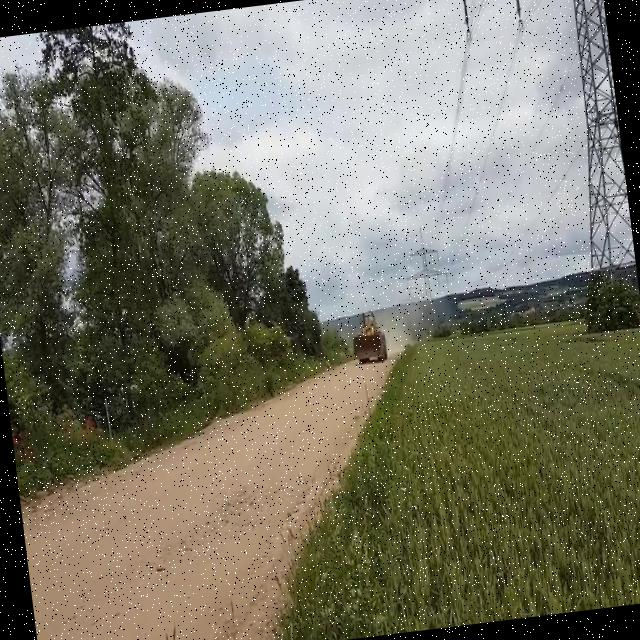Loader: (344, 302, 394, 363)
